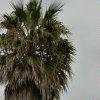Palm tree: (3, 1, 78, 99)
